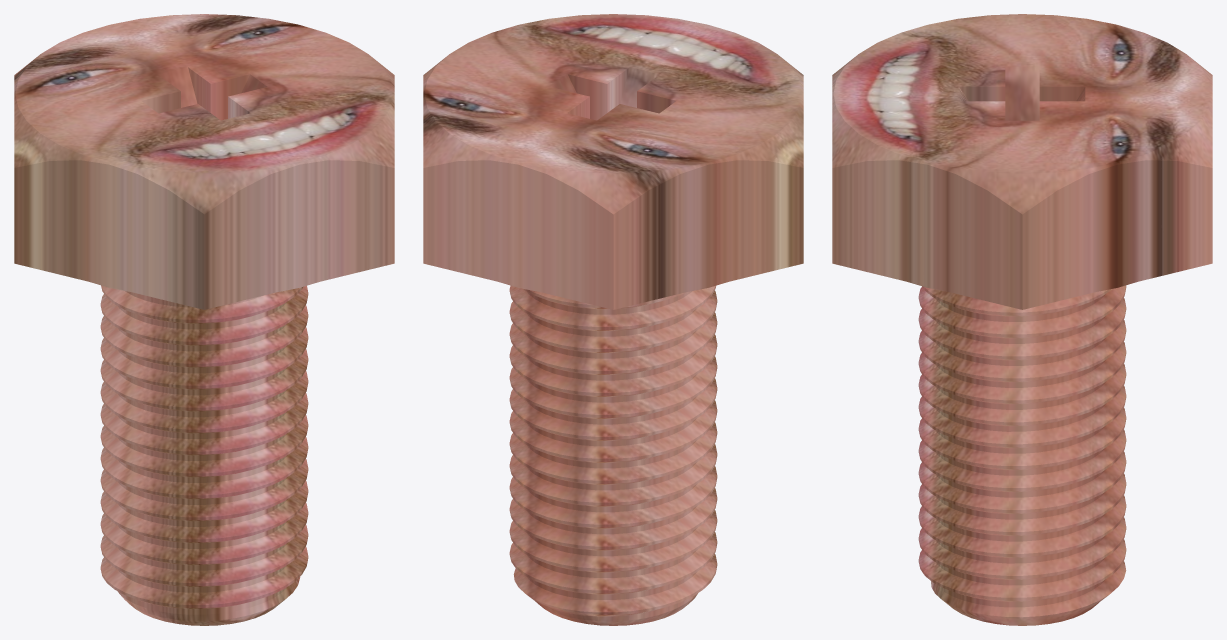
File: kroeger-hex-phillips-bolt.glb
3 views of the same model, side by side, from view 1: azimuth 30°, elevation 25°; view 2: azimuth 150°, elevation 25°; view 3: azimuth 270°, elevation 25° (orthographic).
Visible parts, largest first — view 1: Bolt.005; view 2: Bolt.005; view 3: Bolt.005.
Part boxes in pixels (bbox=[...]): Bolt.005: bbox=[14, 14, 394, 625]; Bolt.005: bbox=[423, 14, 803, 625]; Bolt.005: bbox=[832, 14, 1212, 625].
Bounding box in the file's own units: 0.0127 × 0.0159 × 0.011.
1 material, 1 textured.
